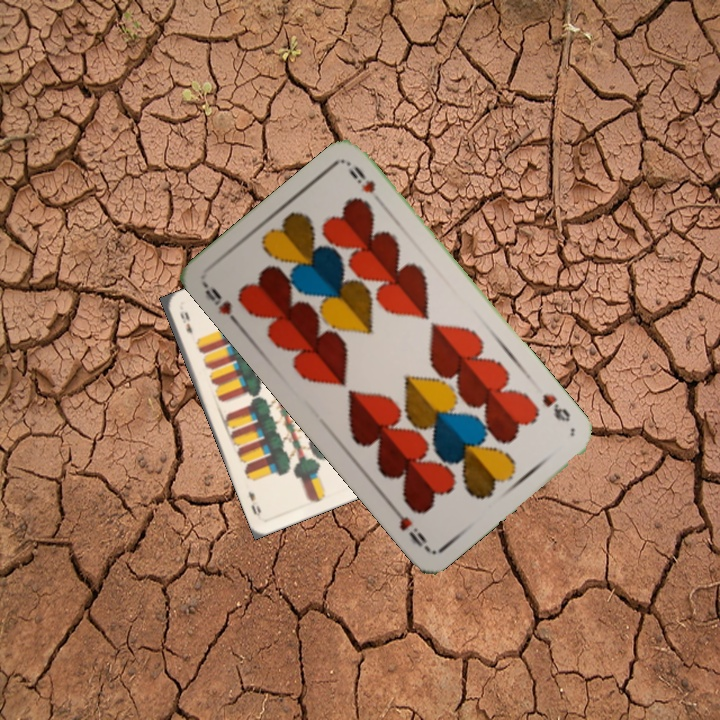E9: (176, 308, 195, 336)
H9: (200, 279, 243, 329), (538, 389, 573, 425)
